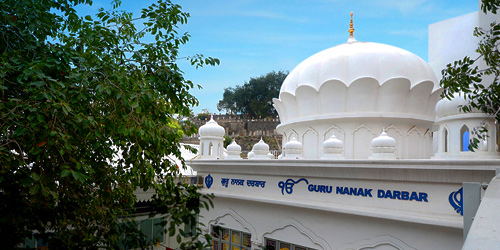Gurdwara: (199, 5, 467, 222)
